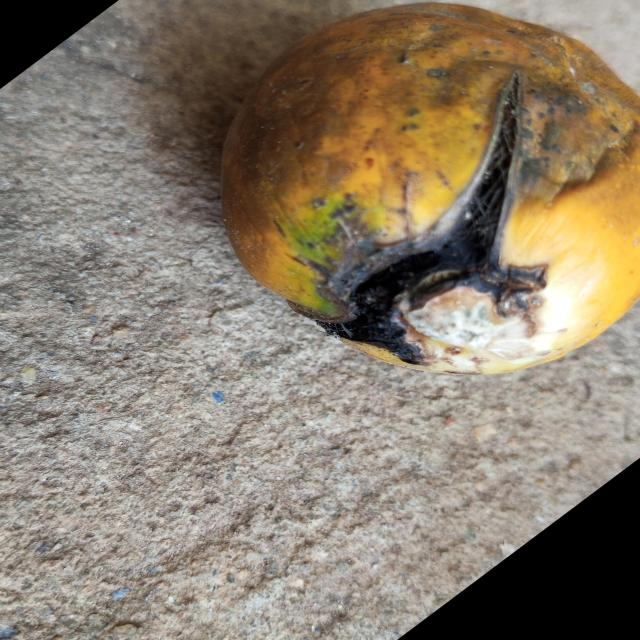damaged: (222, 4, 640, 374)
